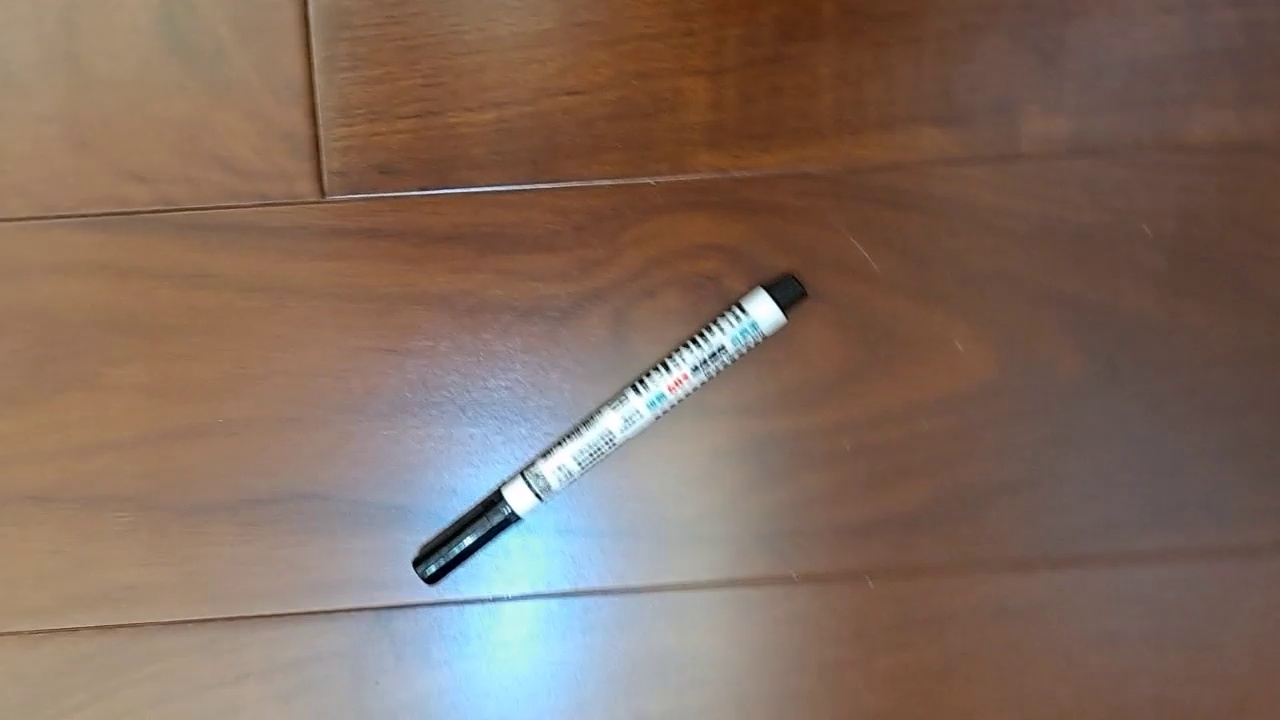pen: (411, 272, 810, 587)
